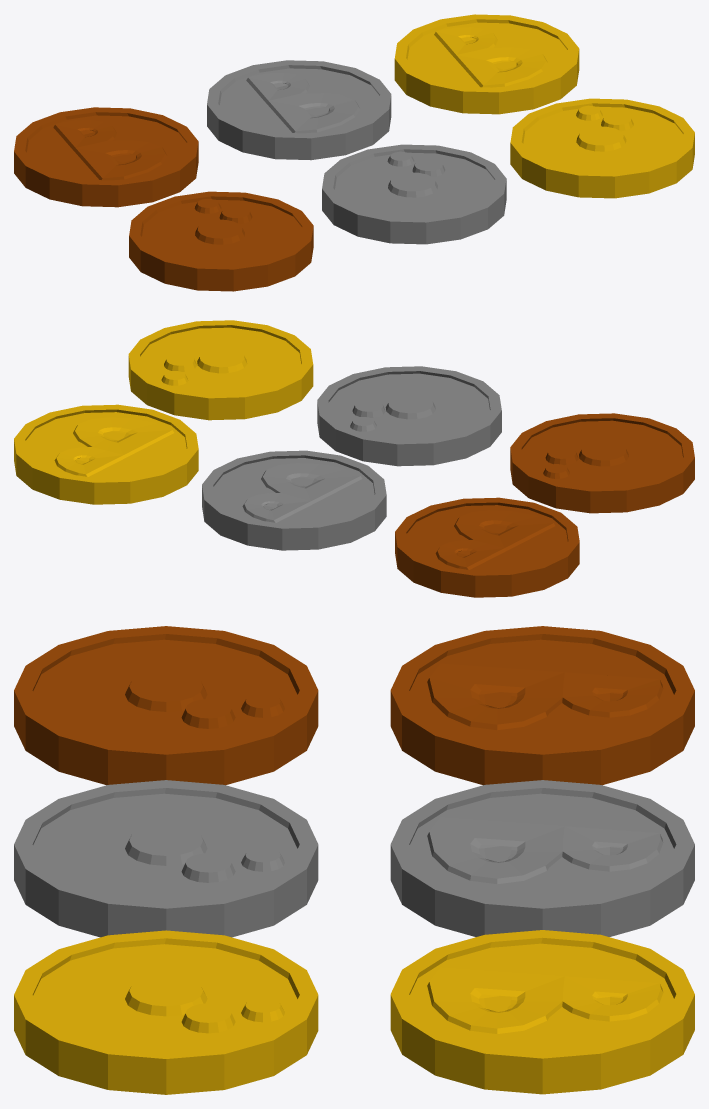
The model's file is 14.07_Bubuia_moedas.fbx.
3 renders of one model, top to bottom at view 1: azimuth 30°, elevation 25°; view 2: azimuth 150°, elevation 25°; view 3: azimuth 270°, elevation 25°, orthographic. The views are drawn at different scales.
Visible parts, largest first — view 1: Cylinder.005, Cylinder.001, Cylinder, Cylinder.002, Cylinder.003, Cylinder.004; view 2: Cylinder.001, Cylinder.003, Cylinder.002, Cylinder.004, Cylinder.005, Cylinder; view 3: Cylinder.001, Cylinder.005, Cylinder.002, Cylinder.004, Cylinder, Cylinder.003.
Boxes of the visible parts, x1,y1,x2,y2 form: Cylinder.005: [394, 14, 579, 114]; Cylinder.001: [510, 98, 694, 198]; Cylinder: [322, 144, 506, 244]; Cylinder.002: [129, 191, 313, 291]; Cylinder.003: [207, 60, 391, 160]; Cylinder.004: [14, 107, 198, 207]; Cylinder.001: [128, 320, 313, 420]; Cylinder.003: [202, 450, 386, 550]; Cylinder.002: [510, 413, 694, 513]; Cylinder.004: [395, 497, 579, 597]; Cylinder.005: [14, 404, 198, 504]; Cylinder: [317, 366, 501, 466]; Cylinder.001: [14, 930, 318, 1094]; Cylinder.005: [390, 930, 694, 1094]; Cylinder.002: [14, 626, 318, 785]; Cylinder.004: [390, 626, 694, 785]; Cylinder: [14, 780, 318, 937]; Cylinder.003: [390, 780, 694, 936].
Bounding box in the file's own units: 3.86 × 0.1639 × 2.56.
